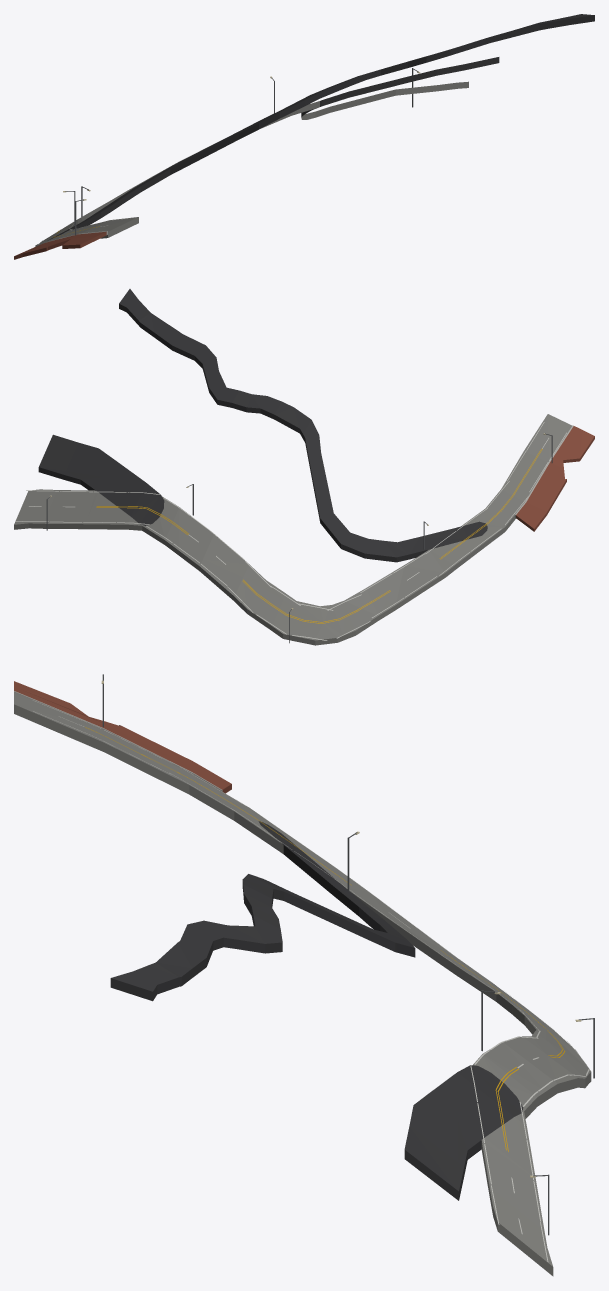
3 views of the same model, one above another, from view 1: azimuth 30°, elevation 25°; view 2: azimuth 150°, elevation 25°; view 3: azimuth 270°, elevation 25° (orthographic). The views are drawn at different scales.
Bounding box in the file's own units: 110 × 46 × 65.81.
